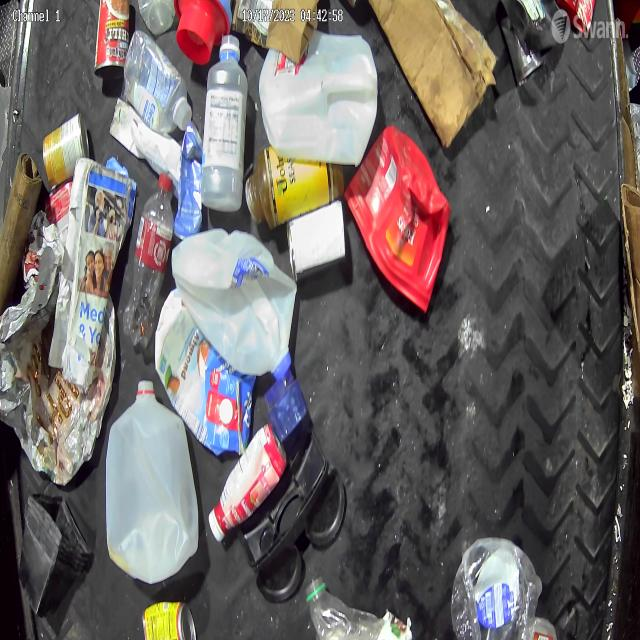can: (41, 113, 91, 191), (500, 18, 546, 88), (97, 1, 132, 74), (140, 600, 197, 640)
milk_jug: (170, 226, 296, 380), (105, 379, 200, 581), (262, 32, 378, 167)
non_white_jug: (347, 126, 449, 309)
plastic_bottle: (124, 171, 176, 344), (304, 577, 383, 639)
